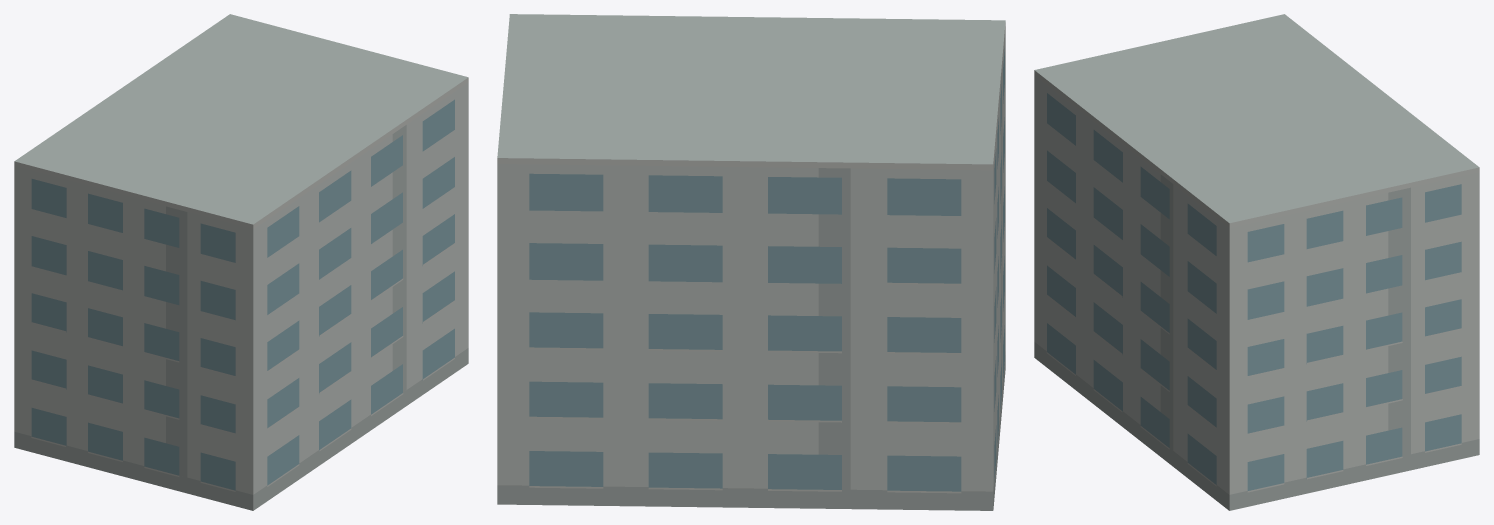
The model's file is survey-upis-32951016.glb.
3 views of the same model, side by side, from view 1: azimuth 30°, elevation 25°; view 2: azimuth 150°, elevation 25°; view 3: azimuth 270°, elevation 25° (orthographic). The views are drawn at different scales.
Parts seen in each view (by area): view 1: survey-upis-32951016.tmp; view 2: survey-upis-32951016.tmp; view 3: survey-upis-32951016.tmp.
Boxes of the visible parts, x1=… form: survey-upis-32951016.tmp: x1=14, y1=14, x2=468, y2=510; survey-upis-32951016.tmp: x1=497, y1=14, x2=1005, y2=510; survey-upis-32951016.tmp: x1=1034, y1=14, x2=1479, y2=510.
Bounding box in the file's own units: 22.32 × 14.3 × 20.07.
